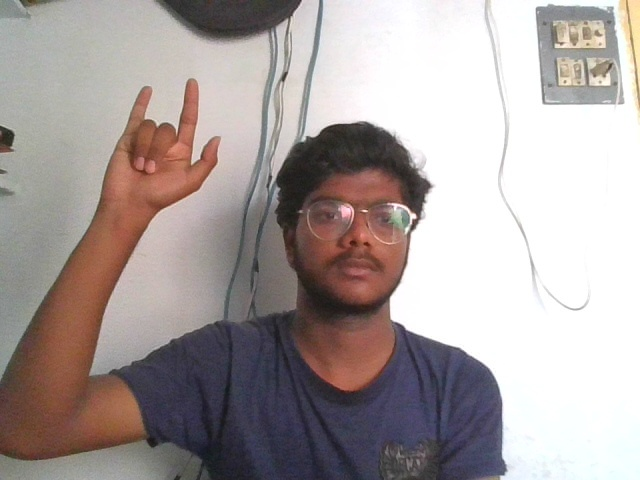IloveYou: (97, 66, 226, 230)
